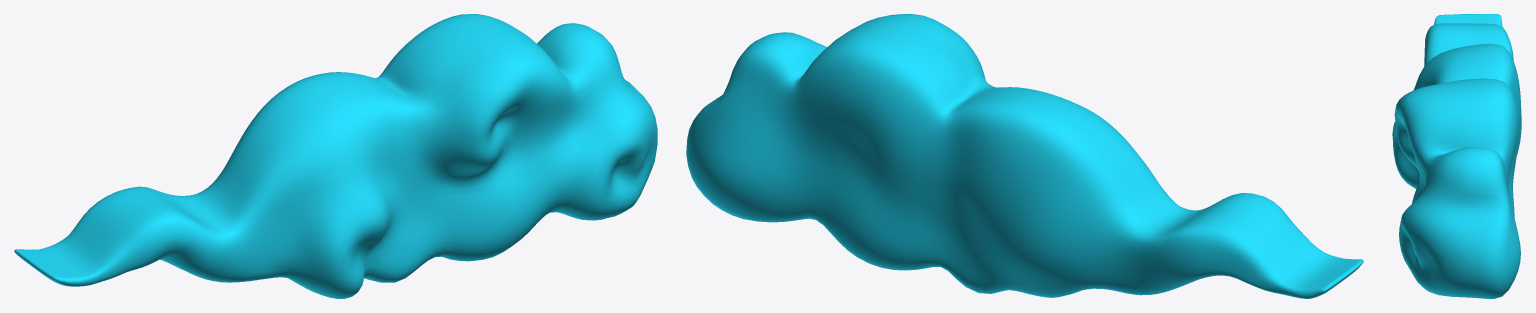
File: turkuvaz.fbx
3 renders of one model, left to right at view 1: azimuth 30°, elevation 25°; view 2: azimuth 150°, elevation 25°; view 3: azimuth 270°, elevation 25°, orthographic. The views are drawn at different scales.
Visible parts, largest first — view 1: CLOUD_LOW POLLY.001; view 2: CLOUD_LOW POLLY.001; view 3: CLOUD_LOW POLLY.001.
Boxes of the visible parts, left/top/right/bottom form: CLOUD_LOW POLLY.001: left=14, top=14, right=657, bottom=298; CLOUD_LOW POLLY.001: left=686, top=14, right=1363, bottom=298; CLOUD_LOW POLLY.001: left=1392, top=14, right=1521, bottom=298.
Size of the model in its own units: 82465 by 27850 by 18349.
